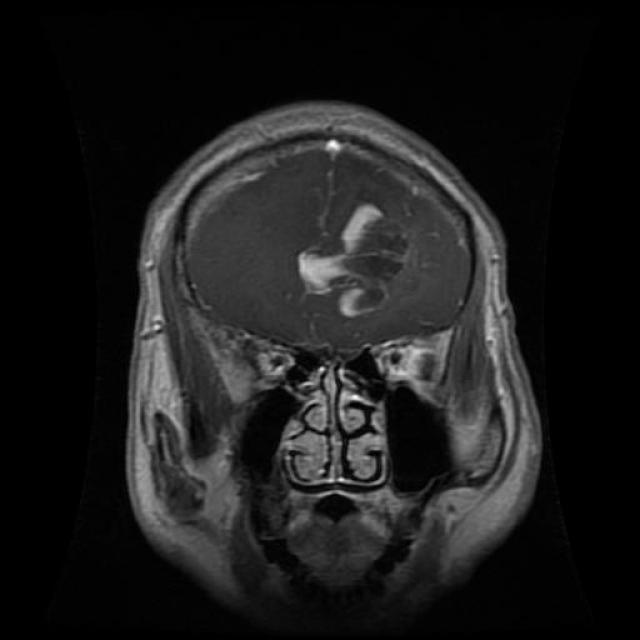Brain-Tumor: (286, 185, 419, 325)
eye: (374, 338, 439, 390), (247, 337, 312, 388)
